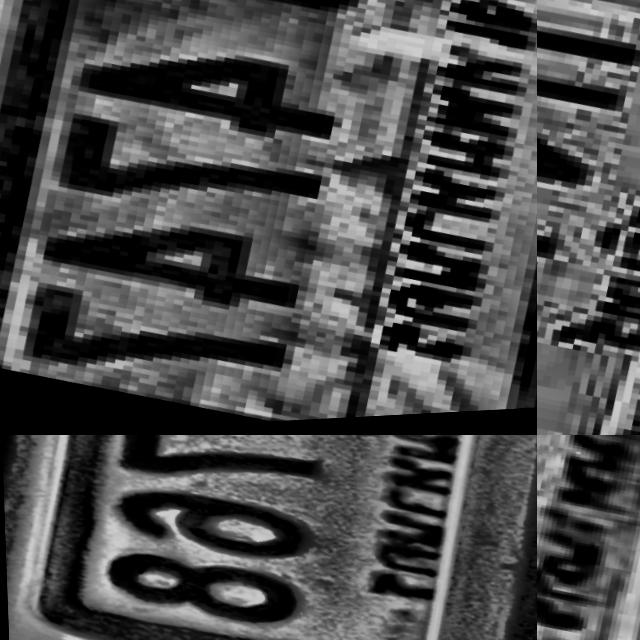license-plate: (0, 0, 537, 435), (0, 435, 537, 640), (537, 0, 640, 435), (537, 435, 640, 640)
